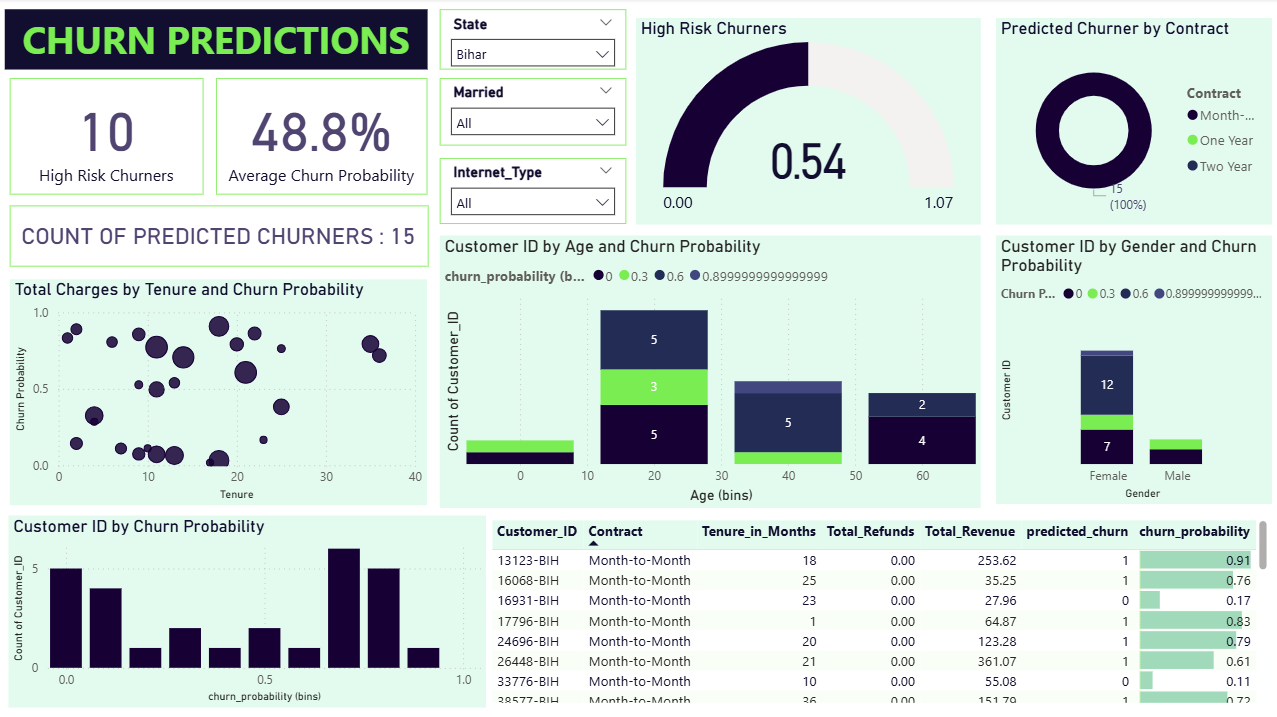

This screenshot's page, from the dashboard's own definition file:
{"tool":"powerbi","page":{"name":"Predictions","canvas":[1280,720],"ordinal":1},"visuals":[{"type":"tableEx","fields":{"Values":["churn_predictions.Customer_ID","churn_predictions.Contract","churn_predictions.Tenure_in_Months","churn_predictions.Total_Refunds","churn_predictions.Total_Revenue","churn_predictions.predicted_churn","churn_predictions.churn_probability"]},"box":[487.6,515,782.5,191.6],"z":0},{"type":"card","fields":{"Values":["Measure_tbl.Title Predicted Churners"]},"box":[13.7,206.5,416.7,61],"z":1000},{"type":"gauge","title":"High Risk Churners","fields":{"Y":["Measure_tbl.HighRiskPct"]},"box":[636.9,19.9,343.3,205.3],"z":2000},{"type":"clusteredColumnChart","title":"Customer ID by Churn Probability","fields":{"Category":["churn_predictions.churn_probability (bins)"],"Y":["CountNonNull(churn_predictions.Customer_ID)"]},"box":[12.4,515,475.2,191.6],"z":3000},{"type":"card","fields":{"Values":["Avg(churn_predictions.churn_probability)"]},"box":[218.9,79.6,210.2,115.7],"z":4000},{"type":"card","fields":{"Values":["Measure_tbl.HighRisk"]},"box":[13.7,79.6,192.8,115.7],"z":5000},{"type":"scatterChart","title":"Total Charges by Tenure and Churn Probability","fields":{"X":["churn_predictions.Tenure_in_Months"],"Y":["churn_predictions.churn_probability"],"Size":["Sum(churn_predictions.Total_Charges)"]},"box":[13.7,279.9,415.5,225.2],"z":6000},{"type":"donutChart","fields":{"Category":["churn_predictions.Contract"],"Y":["Measure_tbl.Count Predicted Churner"]},"box":[995.2,19.9,274.9,205.3],"z":7000},{"type":"columnChart","title":"Customer ID by Gender and Churn Probability ","fields":{"Category":["churn_predictions.Gender"],"Series":["churn_predictions.churn_probability (bins) 2"],"Y":["CountNonNull(churn_predictions.Customer_ID)"]},"box":[995.2,236.4,274.9,267.5],"z":8000},{"type":"columnChart","title":"Customer ID by Age and Churn Probability ","fields":{"Category":["churn_predictions.Age (bins)"],"Y":["CountNonNull(churn_predictions.Customer_ID)"],"Series":["churn_predictions.churn_probability (bins) 2"]},"box":[441.6,236.4,538.6,271.2],"z":8001},{"type":"slicer","fields":{"Values":["churn_predictions.State"]},"box":[441.6,11.2,185.3,59.7],"z":8002},{"type":"slicer","fields":{"Values":["churn_predictions.Married"]},"box":[441.6,79.6,185.3,67.2],"z":8003},{"type":"textbox","box":[8.7,11.2,420.5,59.7],"z":8004},{"type":"slicer","fields":{"Values":["churn_predictions.Internet_Type"]},"box":[441.6,159.2,185.3,65.9],"z":8005}]}

Visuals, with their boxes in screenshot pixels (x1, y1, x2, y2), scaled from the page's 1280x720 canvas onto the 1277x717 screenshot:
tableEx - churn_predictions.Customer_ID x churn_predictions.Contract: pyautogui.locateOnScreen(486, 513, 1267, 704)
card - Measure_tbl.Title Predicted Churners: pyautogui.locateOnScreen(14, 206, 429, 266)
"High Risk Churners" gauge: pyautogui.locateOnScreen(635, 20, 978, 224)
"Customer ID by Churn Probability" clusteredColumnChart: pyautogui.locateOnScreen(12, 513, 486, 704)
card - Avg(churn_predictions.churn_probability): pyautogui.locateOnScreen(218, 79, 428, 194)
card - Measure_tbl.HighRisk: pyautogui.locateOnScreen(14, 79, 206, 194)
"Total Charges by Tenure and Churn Probability" scatterChart: pyautogui.locateOnScreen(14, 279, 428, 503)
donutChart - churn_predictions.Contract x Measure_tbl.Count Predicted Churner: pyautogui.locateOnScreen(993, 20, 1267, 224)
"Customer ID by Gender and Churn Probability " columnChart: pyautogui.locateOnScreen(993, 235, 1267, 502)
"Customer ID by Age and Churn Probability " columnChart: pyautogui.locateOnScreen(441, 235, 978, 505)
slicer - churn_predictions.State: pyautogui.locateOnScreen(441, 11, 625, 71)
slicer - churn_predictions.Married: pyautogui.locateOnScreen(441, 79, 625, 146)
textbox: pyautogui.locateOnScreen(9, 11, 428, 71)
slicer - churn_predictions.Internet_Type: pyautogui.locateOnScreen(441, 159, 625, 224)
